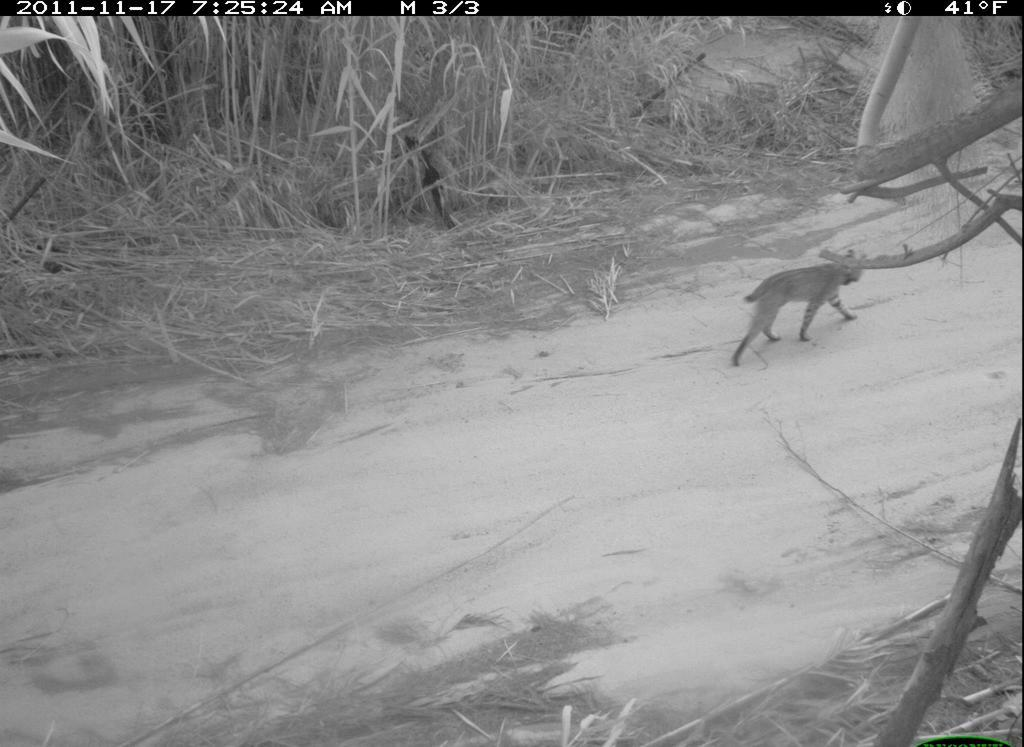bobcat: (729, 246, 872, 377)
